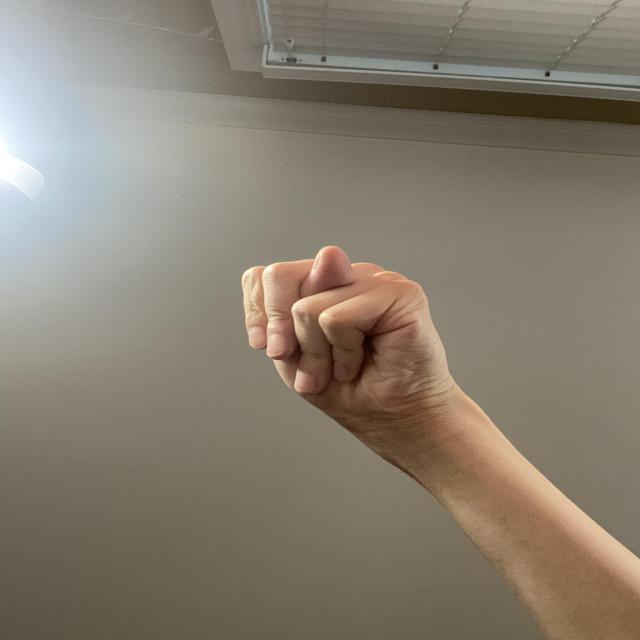N: (234, 240, 463, 443)
